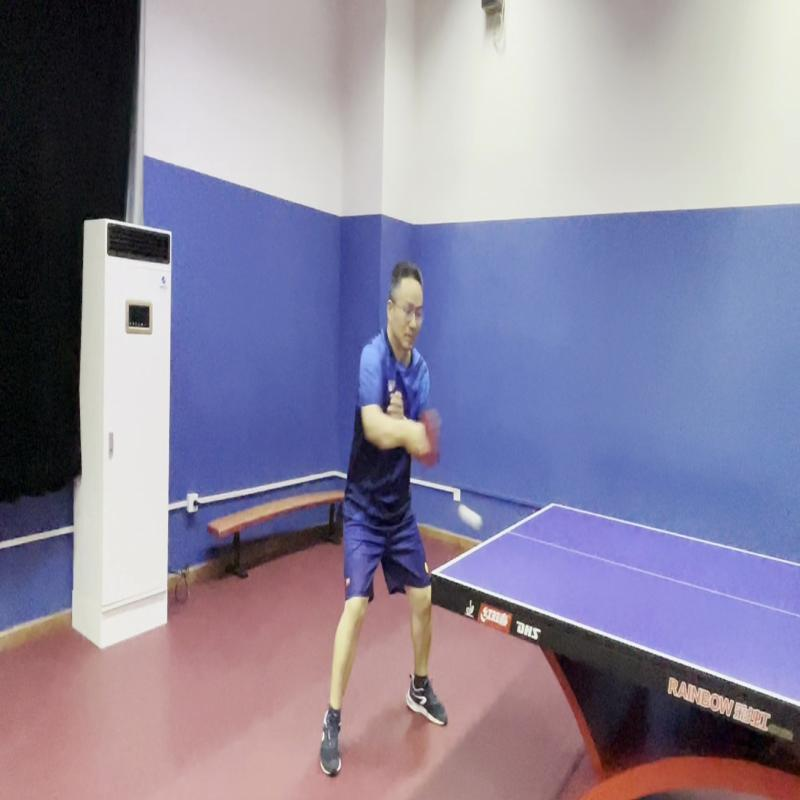bats: (413, 400, 449, 474)
